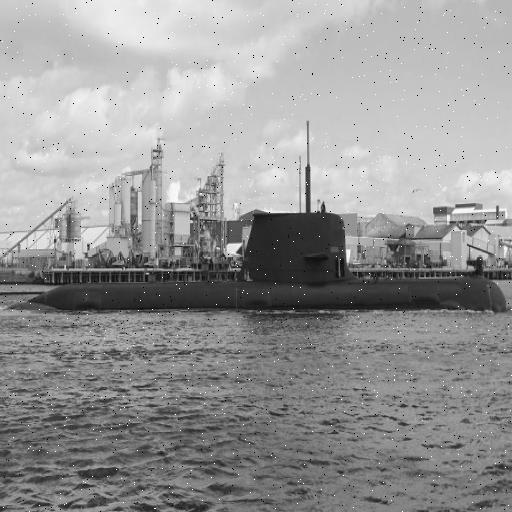submarine: (1, 113, 512, 311)
